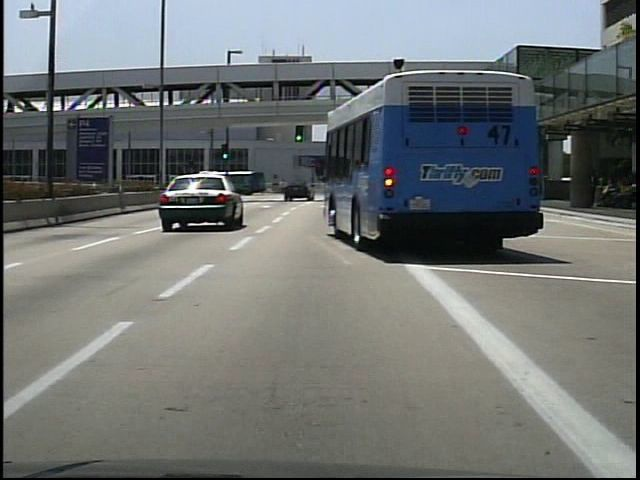person: (587, 167, 601, 208)
